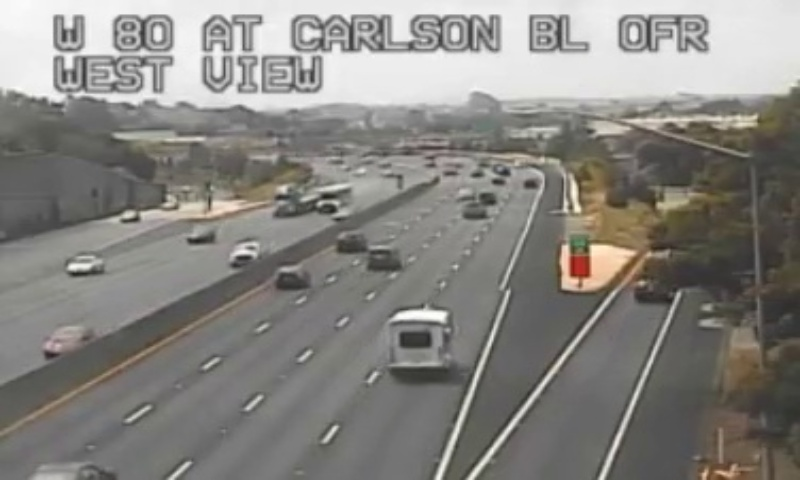bus: (382, 308, 453, 371)
car: (365, 245, 397, 272), (274, 265, 308, 288), (336, 230, 365, 252)
